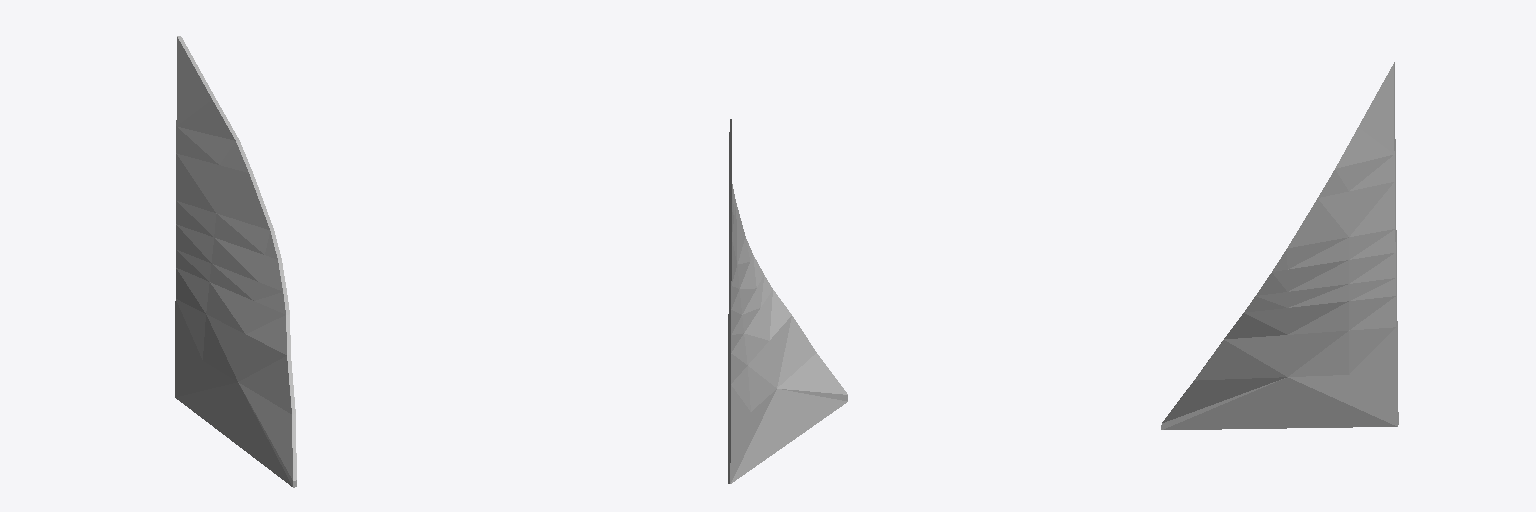
Rendered from boat2_3dex_sailMain_sailup_onPower.obj.
3 renders of one model, left to right at view 1: azimuth 30°, elevation 25°; view 2: azimuth 150°, elevation 25°; view 3: azimuth 270°, elevation 25°, orthographic.
Visible parts, largest first — view 1: sailMain_sailup_onPower_Plane.003; view 2: sailMain_sailup_onPower_Plane.003; view 3: sailMain_sailup_onPower_Plane.003.
Part boxes in pixels (x1,y1,x2,y2): sailMain_sailup_onPower_Plane.003: (175, 36, 296, 487); sailMain_sailup_onPower_Plane.003: (728, 119, 847, 483); sailMain_sailup_onPower_Plane.003: (1161, 62, 1398, 429).
Bounding box in the file's own units: 1.47 × 11.88 × 6.97.